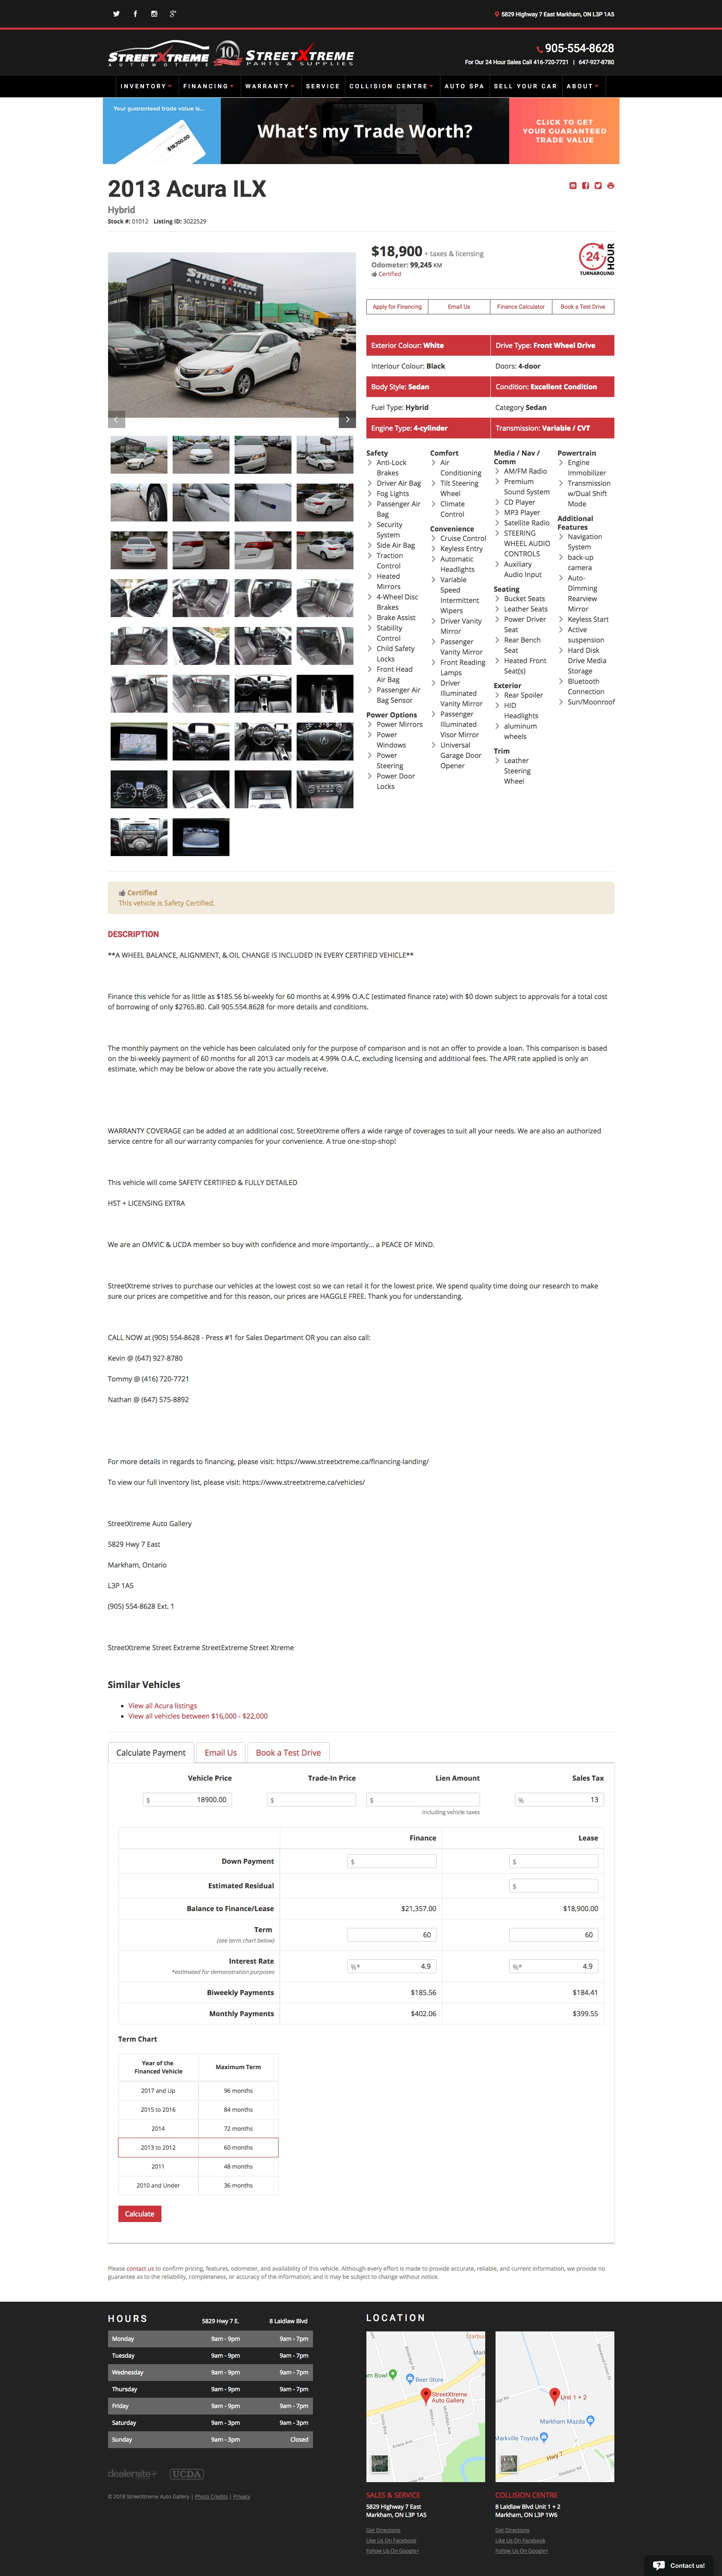car: (346, 416, 350, 424)
